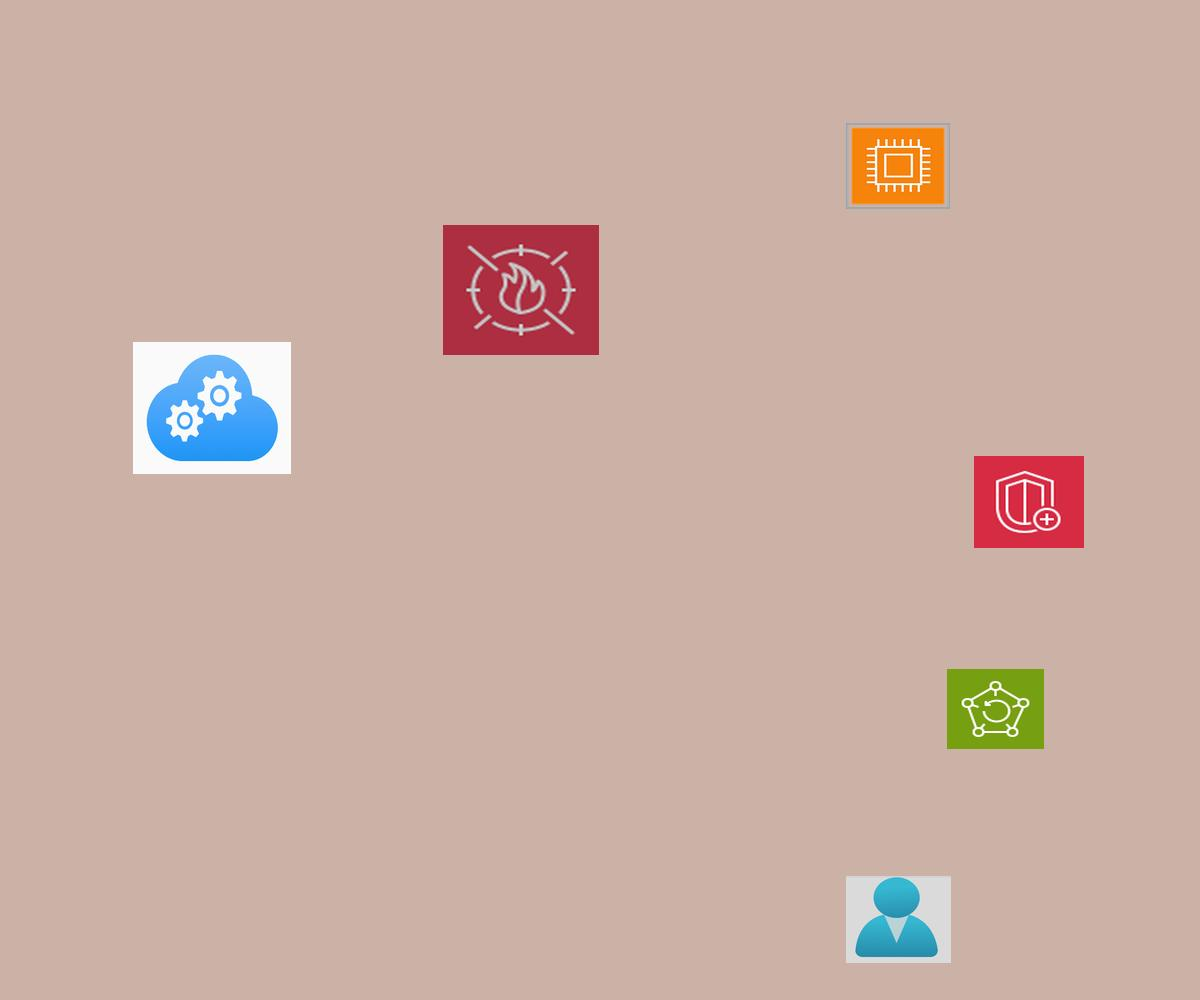AWS-Backup: (947, 669, 1044, 749)
AWS-Category_Compute: (846, 123, 950, 209)
AWS-Shield: (974, 456, 1084, 548)
AWS-WAF: (443, 225, 599, 355)
Azure_cloud_services: (133, 342, 291, 474)
Azure_users: (846, 876, 951, 963)
